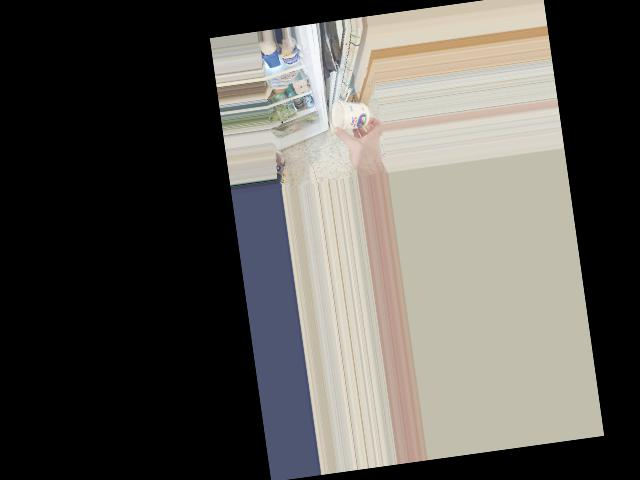cotage: (329, 95, 372, 135)
